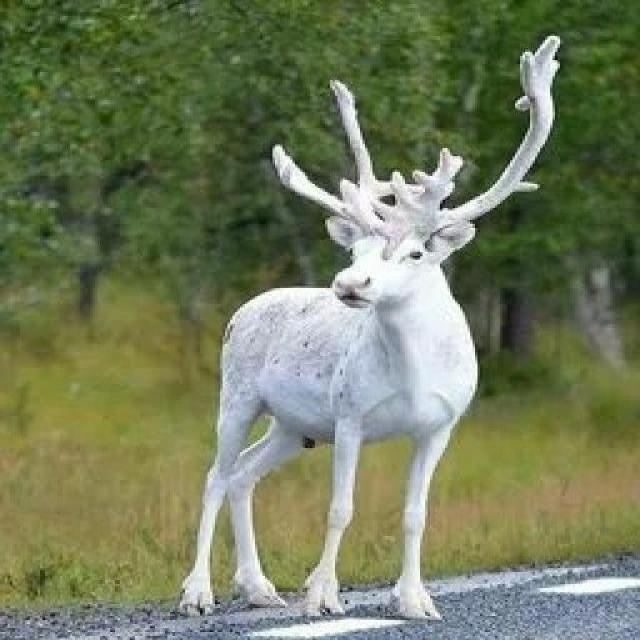deer: (15, 52, 574, 577)
